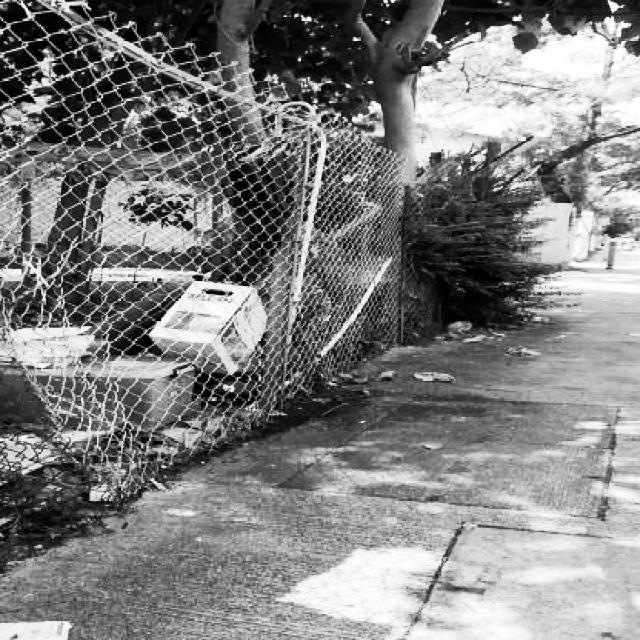anomaly-fence: (0, 199, 132, 551)
